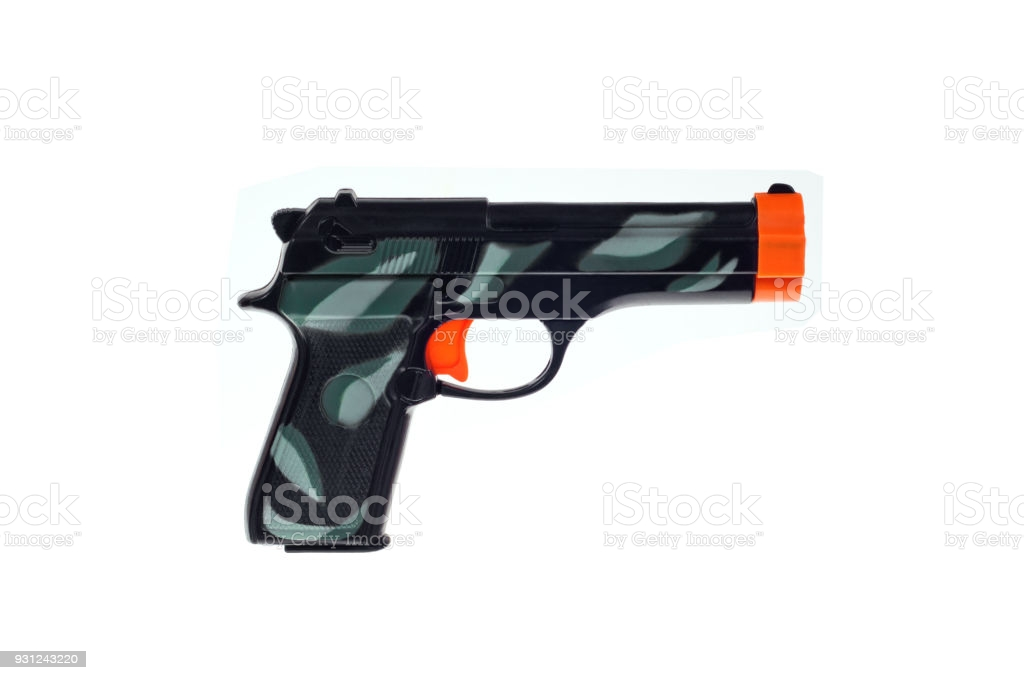Arma Falsa: (244, 185, 807, 559)
